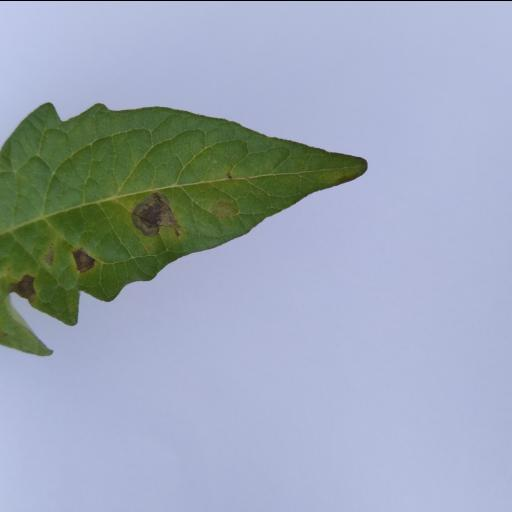Early Blight: (0, 98, 369, 326)
